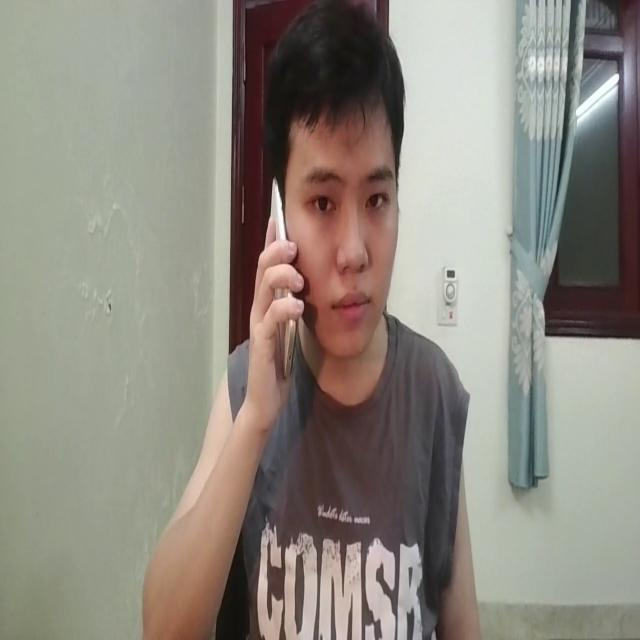phone: (261, 178, 299, 385)
student: (149, 0, 475, 640)
